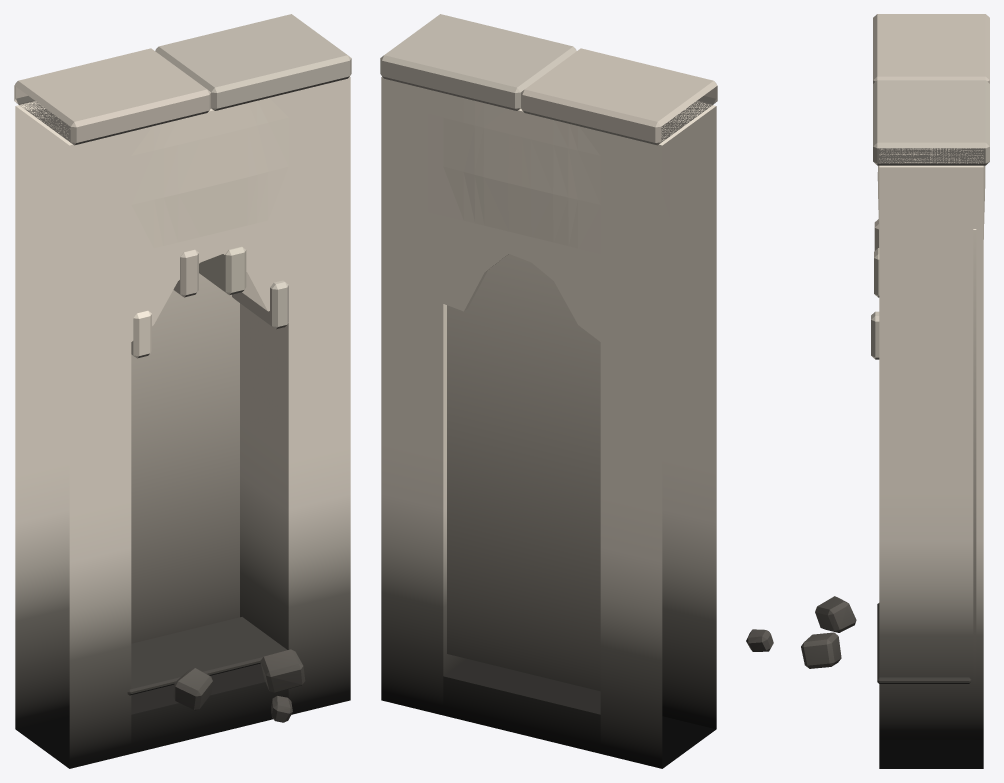
The model's file is SM_VKI_Wall_Dungeon_Passage_150_Full.fbx.
The picture shows the model from 3 angles, left to right: view 1: azimuth 30°, elevation 25°; view 2: azimuth 150°, elevation 25°; view 3: azimuth 270°, elevation 25°; orthographic projection. The views are drawn at different scales.
Visible parts, largest first — view 1: SM_VKI_Wall_Dungeon_Passage_150_Full.001; view 2: SM_VKI_Wall_Dungeon_Passage_150_Full.001; view 3: SM_VKI_Wall_Dungeon_Passage_150_Full.001.
Boxes of the visible parts, x1=… form: SM_VKI_Wall_Dungeon_Passage_150_Full.001: x1=14, y1=14, x2=351, y2=768; SM_VKI_Wall_Dungeon_Passage_150_Full.001: x1=380, y1=14, x2=717, y2=768; SM_VKI_Wall_Dungeon_Passage_150_Full.001: x1=746, y1=14, x2=989, y2=768.
Size of the model in its own units: 1.5 by 3.3 by 1.17.
